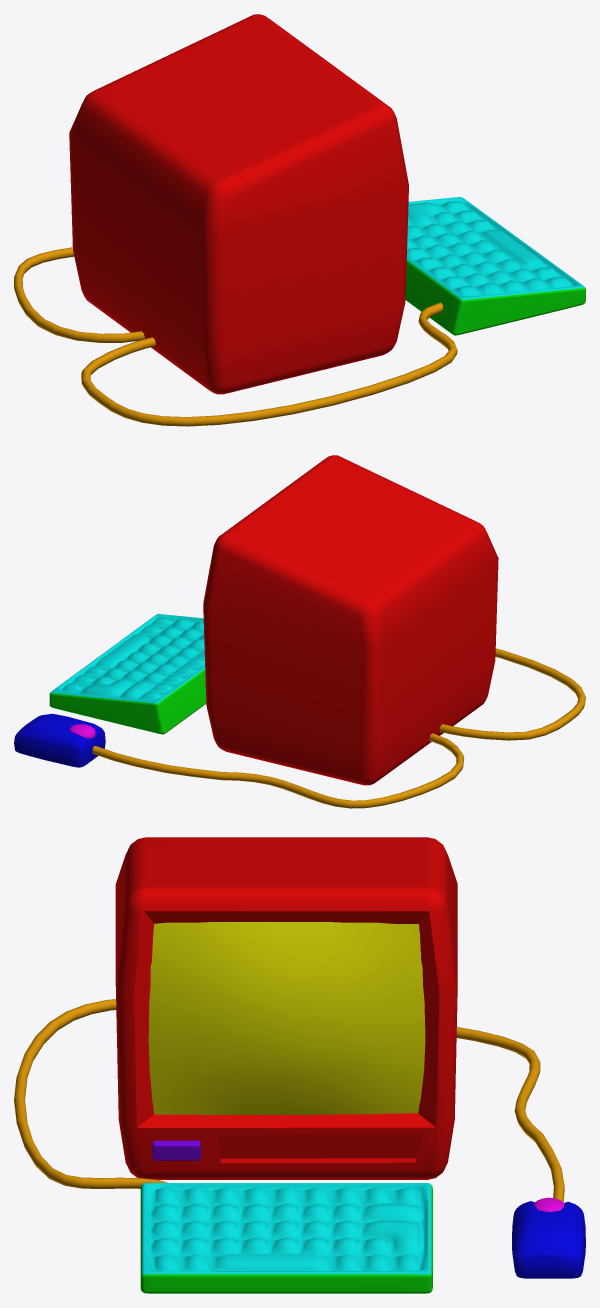
File: retrocomputer.glb
3 views of the same model, one above another, from view 1: azimuth 30°, elevation 25°; view 2: azimuth 150°, elevation 25°; view 3: azimuth 270°, elevation 25° (orthographic). The views are drawn at different scales.
Visible parts, largest first — view 1: Base, Keyboard, Mouse; view 2: Base, Keyboard, Mouse; view 3: Base, Keyboard, Mouse.
Part boxes in pixels (x1,y1,x2,y2): Base: (69, 14, 408, 394); Keyboard: (81, 197, 585, 426); Mouse: (14, 247, 144, 342); Base: (203, 455, 498, 785); Keyboard: (49, 614, 585, 740); Mouse: (14, 713, 464, 808); Base: (115, 837, 457, 1179); Keyboard: (14, 999, 432, 1293); Mouse: (456, 1027, 585, 1278).
Bounding box in the file's own units: 0.6794 × 0.3378 × 0.5985.
